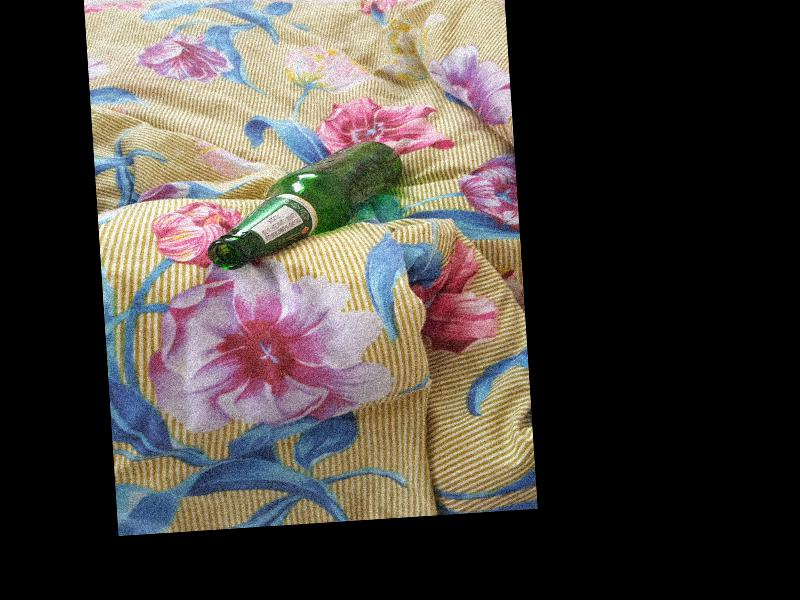Beer: (202, 139, 405, 272)
